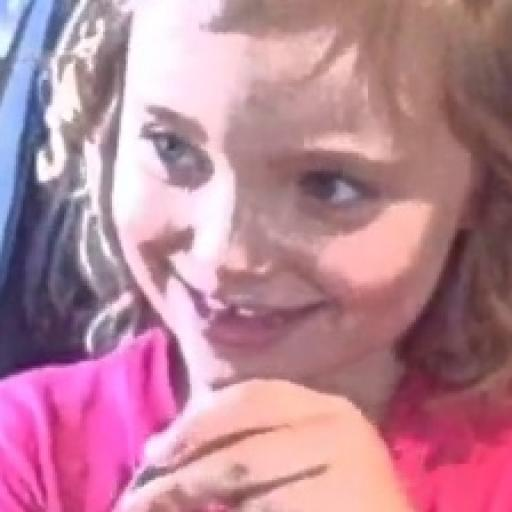Autism: (71, 5, 512, 458)
